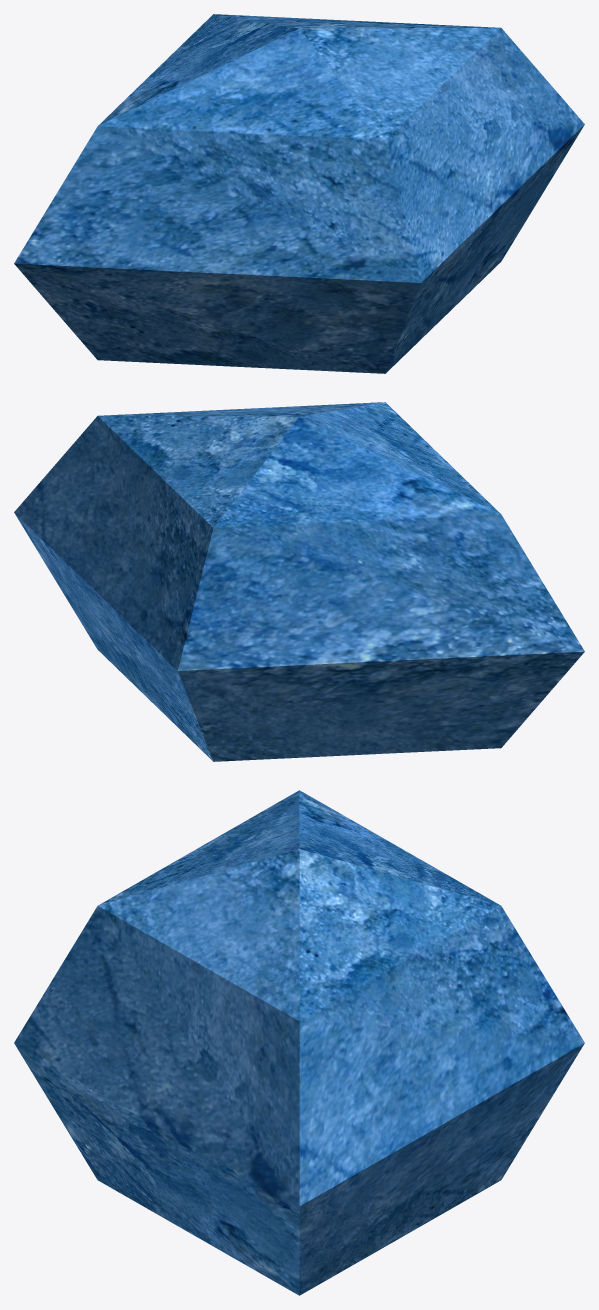
The model's file is blueStone2.obj.
3 renders of one model, top to bottom at view 1: azimuth 30°, elevation 25°; view 2: azimuth 150°, elevation 25°; view 3: azimuth 270°, elevation 25°, orthographic. The views are drawn at different scales.
Bounding box in the file's own units: 2.71 × 1.5 × 2.
1 material, 1 textured.
